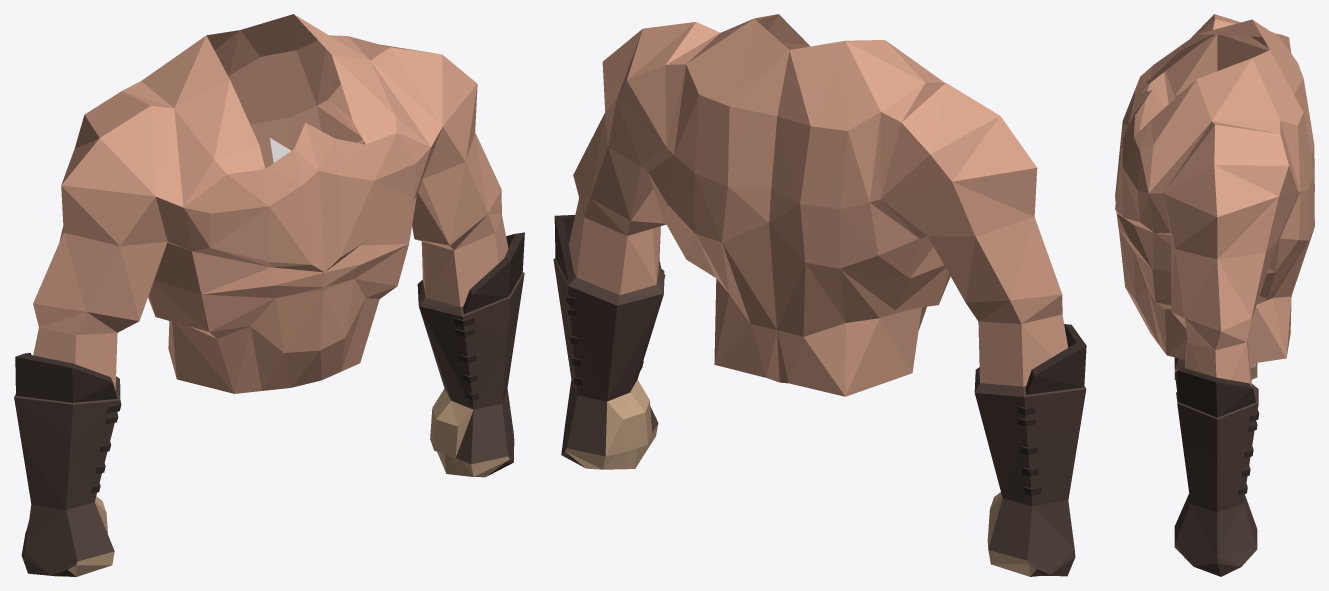
The model's file is WarriorChest.dae.
The picture shows the model from 3 angles, left to right: view 1: azimuth 30°, elevation 25°; view 2: azimuth 150°, elevation 25°; view 3: azimuth 270°, elevation 25°; orthographic projection. The views are drawn at different scales.
Parts seen in each view (by area): view 1: Chest; view 2: Chest; view 3: Chest.
Boxes of the visible parts, x1,y1,x2,y2 form: Chest: (14,14,524,576); Chest: (553,14,1086,576); Chest: (1115,14,1314,576).
Bounding box in the file's own units: 5.68 × 2.13 × 5.17.
